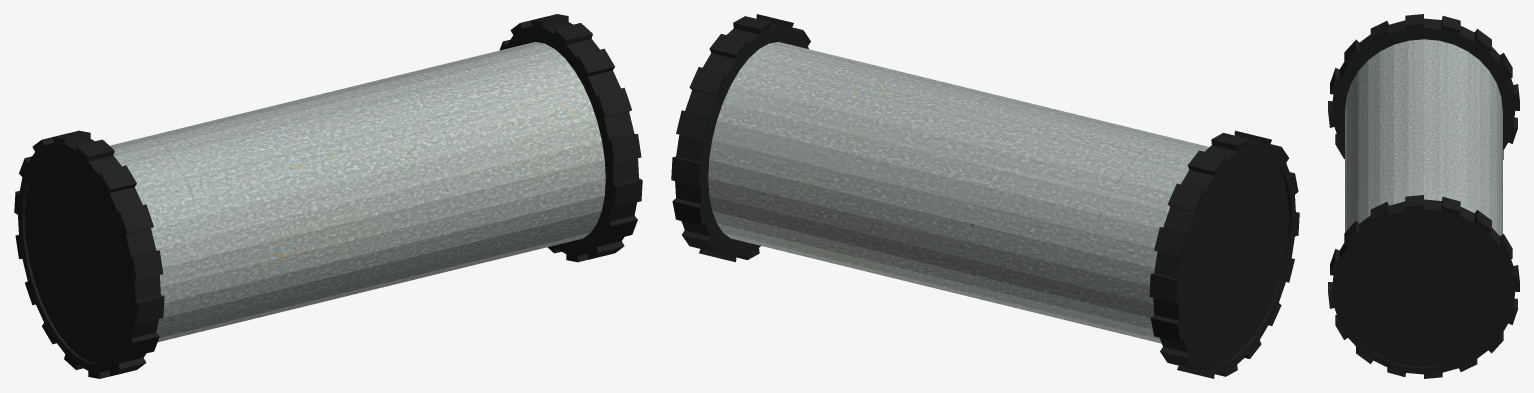
File: rollerf.gltf
3 views of the same model, side by side, from view 1: azimuth 30°, elevation 25°; view 2: azimuth 150°, elevation 25°; view 3: azimuth 270°, elevation 25° (orthographic). The views are drawn at different scales.
Visible parts, largest first — view 1: Cylinder.001; view 2: Cylinder.001; view 3: Cylinder.001.
Boxes of the visible parts, bbox=[...] form: Cylinder.001: bbox=[14, 14, 642, 378]; Cylinder.001: bbox=[671, 14, 1299, 378]; Cylinder.001: bbox=[1328, 14, 1519, 378].
Bounding box in the file's own units: 1.55 × 0.6568 × 0.6568.
2 materials, 1 textured.
